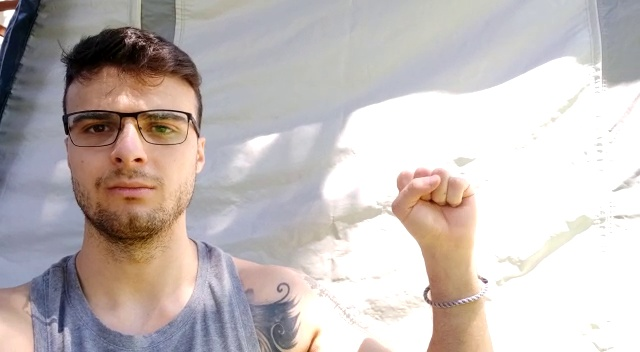Fist: (390, 166, 477, 255)
